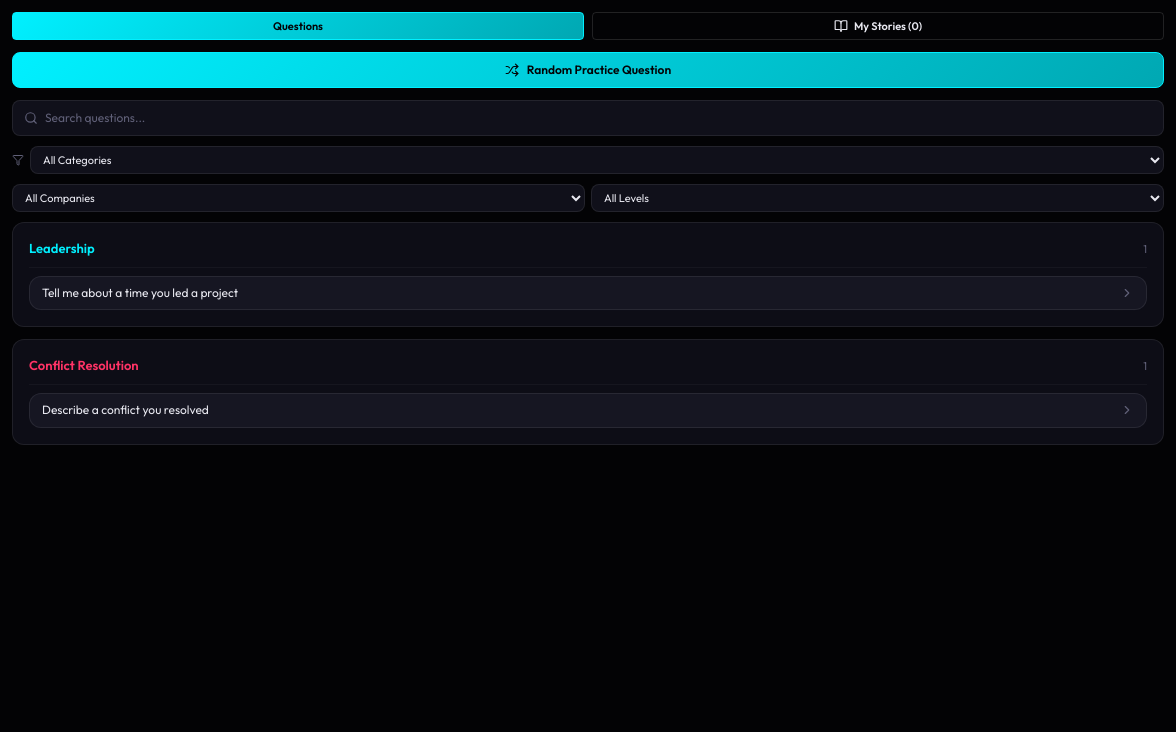
Test: BehavioralPanel › practice view › clicking a question navigates to practice view
Click the text "Tell me about a time you led a project" at (140, 292), box [42,284,238,300]
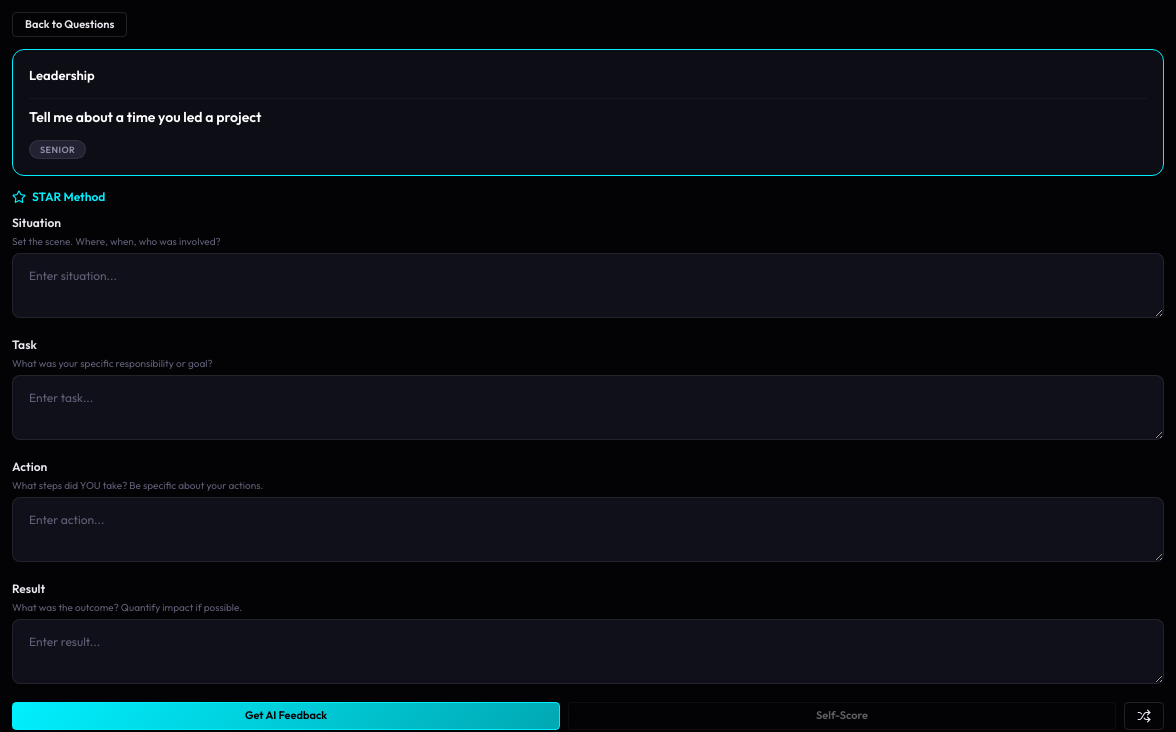
Result: the text "STAR Method" is shown at [12,188,105,204]
